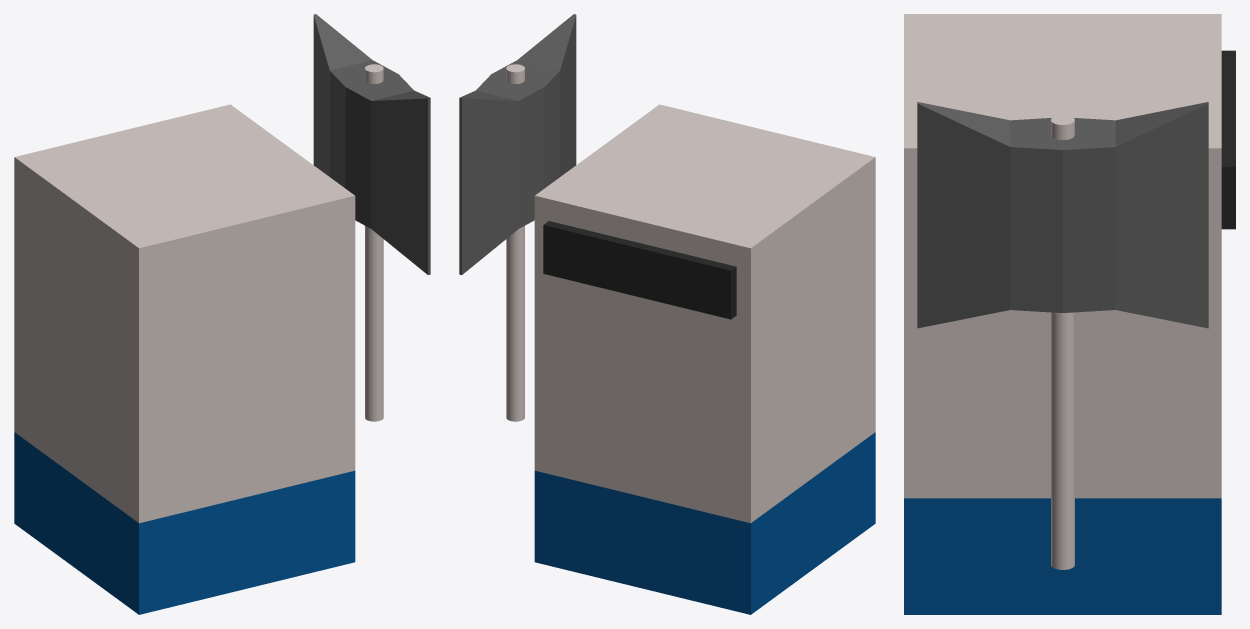
Rendered from Farmer.fbx.
3 views of the same model, side by side, from view 1: azimuth 30°, elevation 25°; view 2: azimuth 150°, elevation 25°; view 3: azimuth 270°, elevation 25° (orthographic). The views are drawn at different scales.
Parts seen in each view (by area): view 1: Cube, Cylinder; view 2: Cube, Cylinder; view 3: Cube, Cylinder.
Part boxes in pixels (bbox=[...]): Cube: bbox=[14, 104, 355, 614]; Cylinder: bbox=[313, 14, 430, 421]; Cube: bbox=[534, 104, 875, 614]; Cylinder: bbox=[459, 14, 576, 421]; Cube: bbox=[904, 14, 1235, 614]; Cylinder: bbox=[917, 102, 1208, 569].
Bounding box in the file's own units: 298 × 390 × 209.
